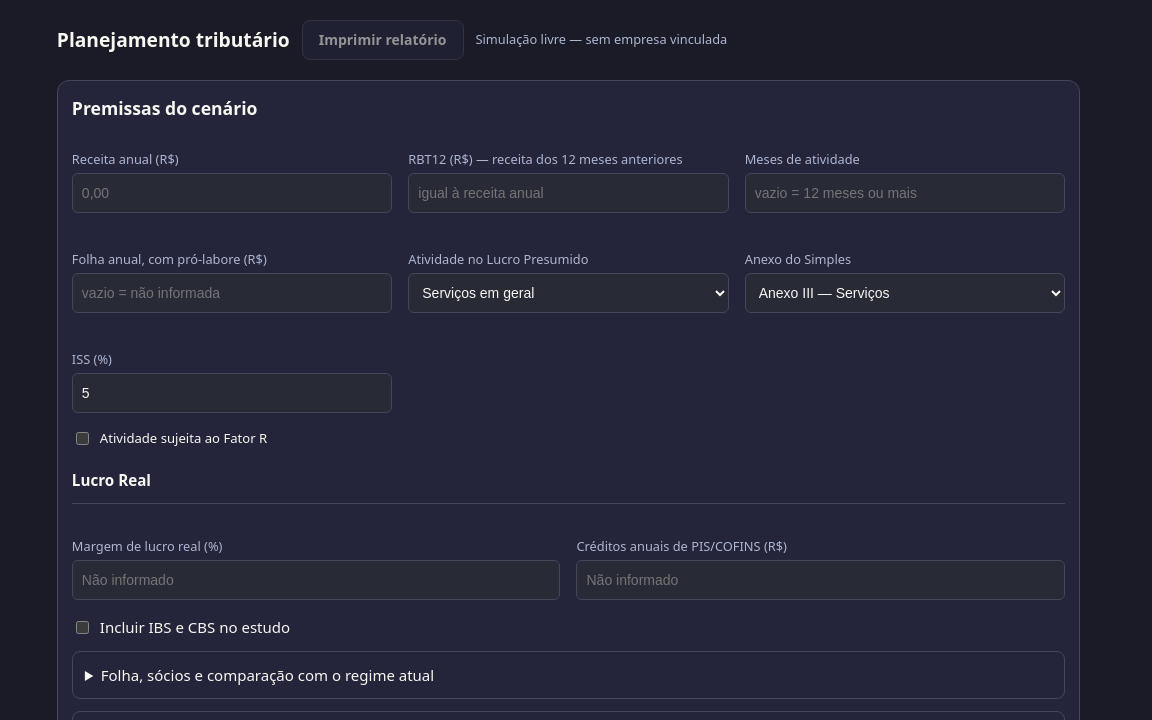
Test: CBS digitada alimenta o híbrido e diferença de créditos
This screenshot has width=1152, height=720.
Click the checkbox labelled "Incluir IBS e CBS no estudo" at (82, 627), box [76,621,89,634]
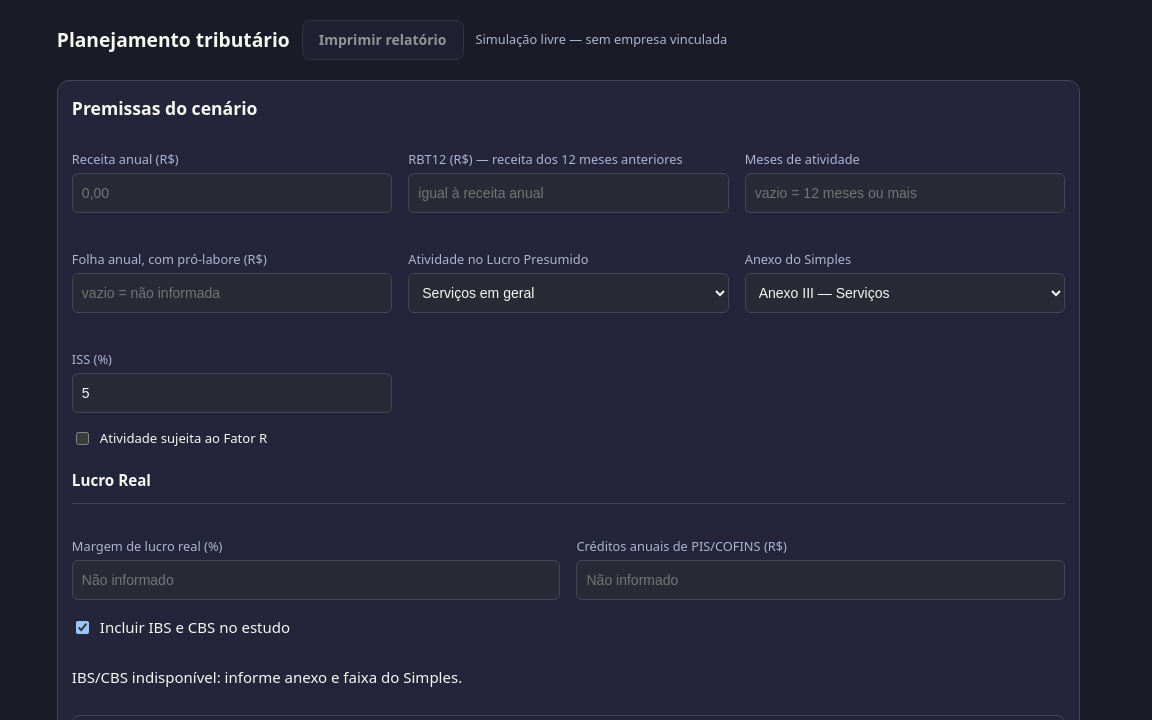
Type "10000000" into the field labelled "Receita anual (R$)" at (232, 193), box [72,173,392,213]
(page scrolled)
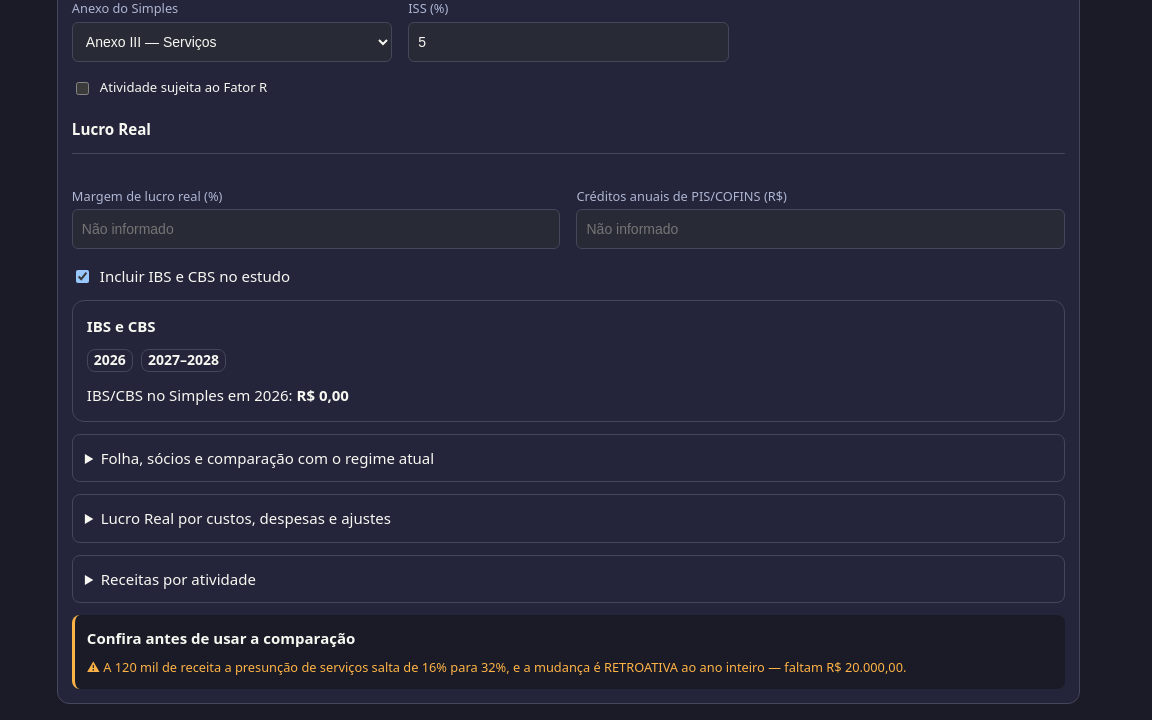
Click the button "2027–2028" at (183, 361), box [141,350,226,372]
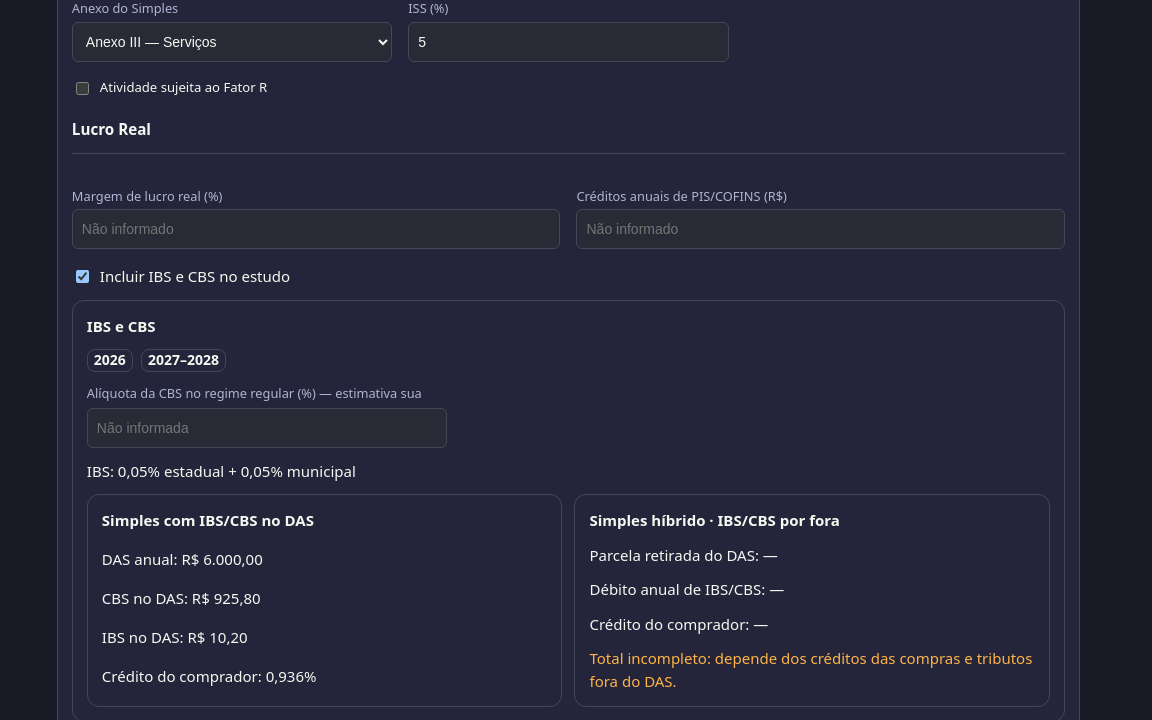
Type "8,8" into the field labelled "Alíquota da CBS no regime regular (%) — estimativa sua" at (267, 428), box [87,408,447,448]
(page scrolled)
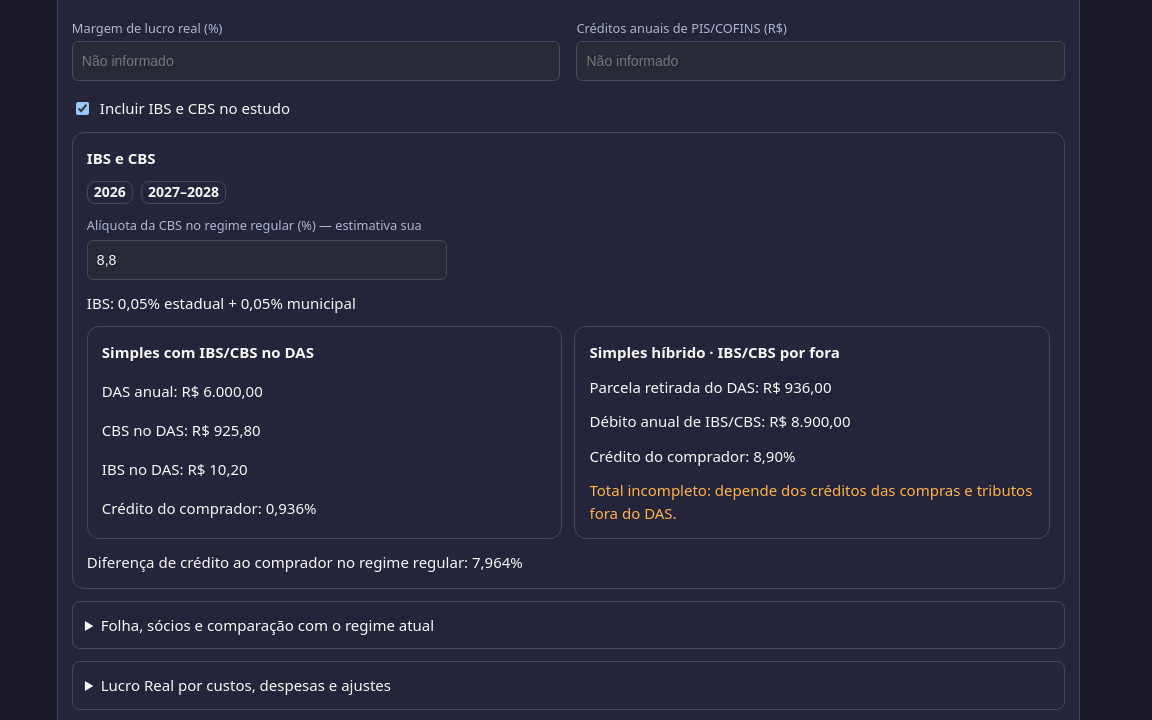
Expected: the element named "IBS e CBS no Simples Nacional" shows "Débito anual de IBS/CBS: R$ 8.900,00", [72,132,1065,589]
Expected: the element named "IBS e CBS no Simples Nacional" shows "Crédito do comprador: 8,90%", [72,132,1065,589]
Expected: the element named "IBS e CBS no Simples Nacional" shows "Diferença de crédito ao comprador no regime regular:", [87,552,472,572]
